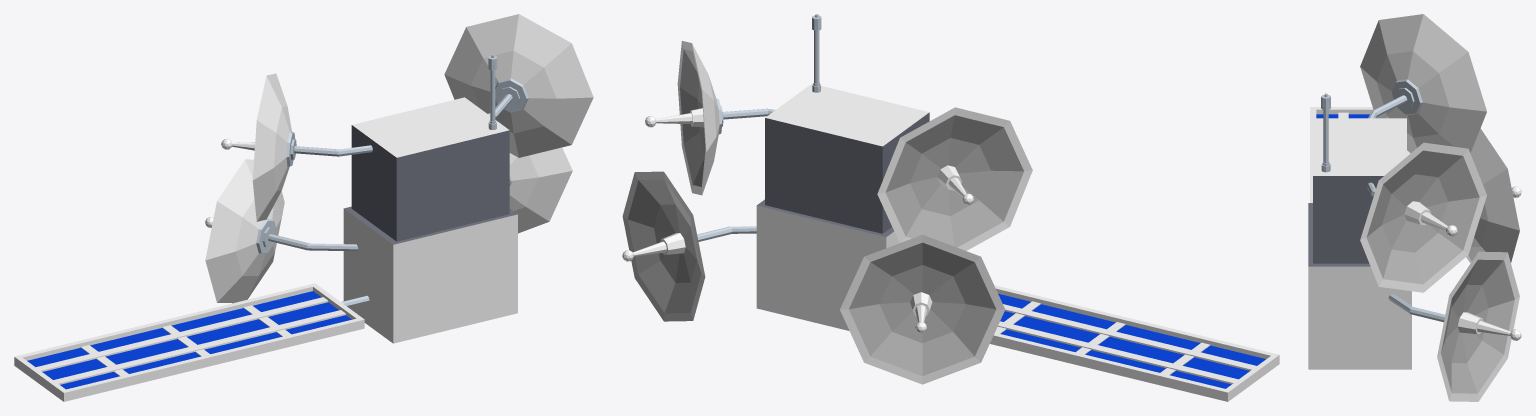
The model's file is Satellite12.glb.
3 renders of one model, left to right at view 1: azimuth 30°, elevation 25°; view 2: azimuth 150°, elevation 25°; view 3: azimuth 270°, elevation 25°, orthographic. The views are drawn at different scales.
Visible parts, largest first — view 1: Satellite12-main, Satellite12-heads, Satellite12-Panel, Satellite12-antenna; view 2: Satellite12-heads, Satellite12-main, Satellite12-Panel; view 3: Satellite12-heads, Satellite12-main, Satellite12-Panel, Satellite12-antenna.
Boxes of the visible parts, x1,y1,x2,y2 form: Satellite12-main: (343,97,517,343); Satellite12-heads: (205,14,593,303); Satellite12-Panel: (14,283,369,401); Satellite12-antenna: (488,54,497,129); Satellite12-heads: (622,41,1032,384); Satellite12-main: (756,83,929,330); Satellite12-Panel: (990,285,1279,401); Satellite12-heads: (1360,14,1521,401); Satellite12-main: (1308,118,1411,369); Satellite12-Panel: (1310,107,1410,202); Satellite12-antenna: (1321,93,1330,172).
Size of the model in its own units: 13.26 by 5.76 by 4.12.
